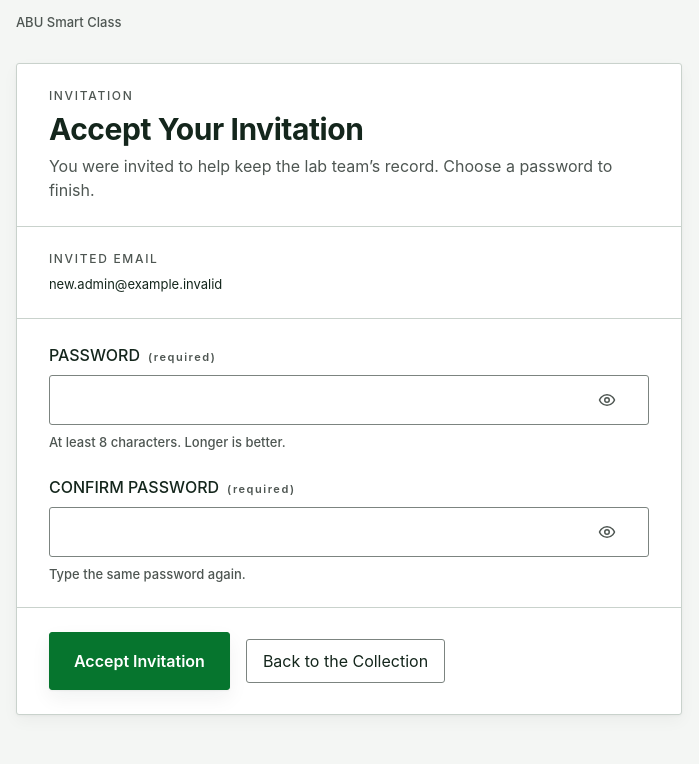
Test case: app/admin/invite/accept/page (S-007) › shows weak-password banner and field error when password is < 8 characters
Type "short" into the password field labelled "PASSWORD". click: [349, 400]
box: top-left (49, 375), bottom-right (649, 425)
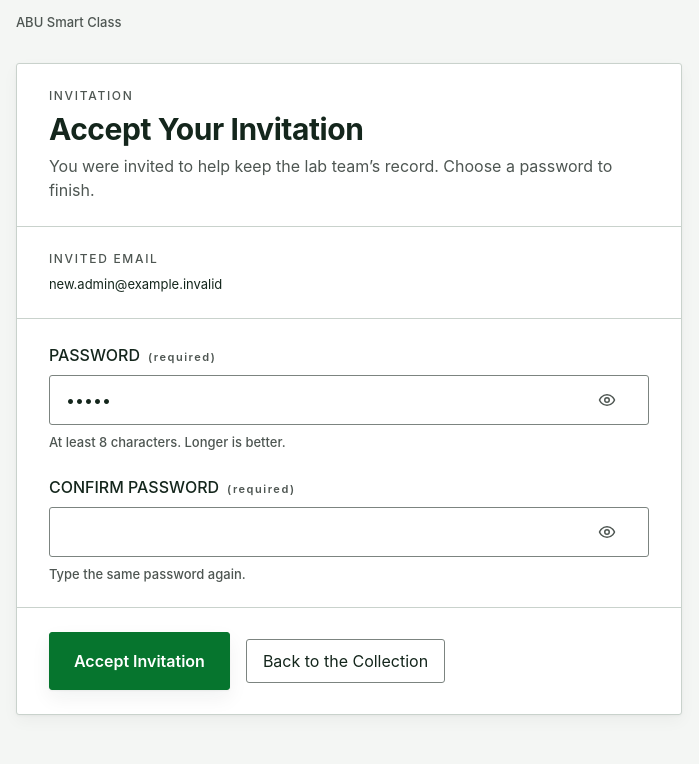
Type "short" into the password field labelled "CONFIRM PASSWORD". click: [349, 532]
box: top-left (49, 507), bottom-right (649, 557)
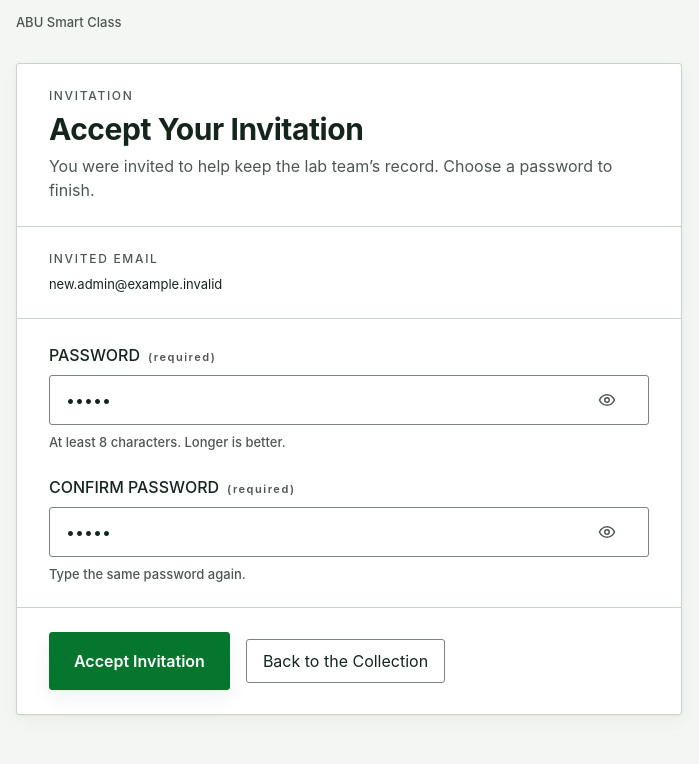
Click the button "Accept Invitation". click: [139, 662]
box: top-left (49, 632), bottom-right (230, 690)
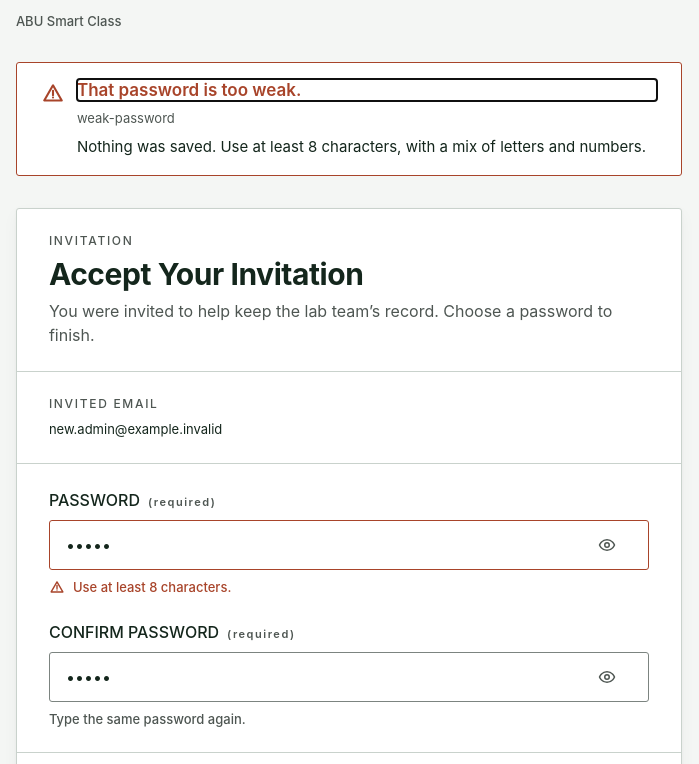
Expected: the heading "That password is too weak." is shown, top-left (77, 80), bottom-right (301, 100)
Expected: the text "weak-password" is shown, top-left (77, 110), bottom-right (175, 126)
Expected: the text "Use at least 8 characters." is shown, top-left (73, 578), bottom-right (231, 596)
